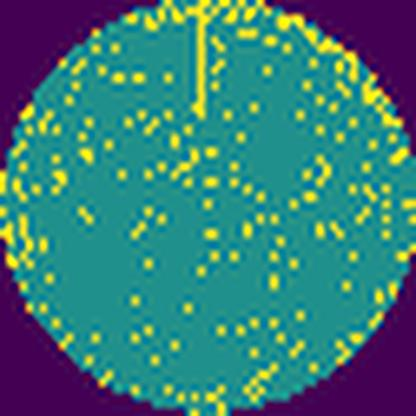Scratch: (183, 0, 216, 121)
